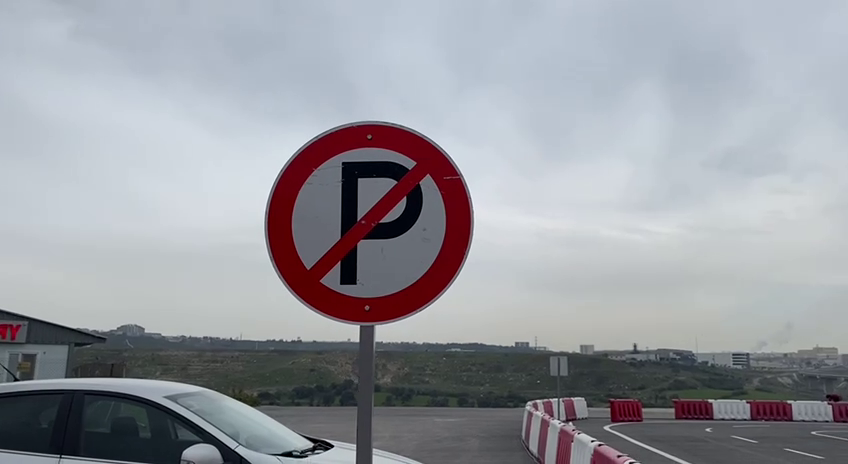noparking: (261, 112, 479, 328)
